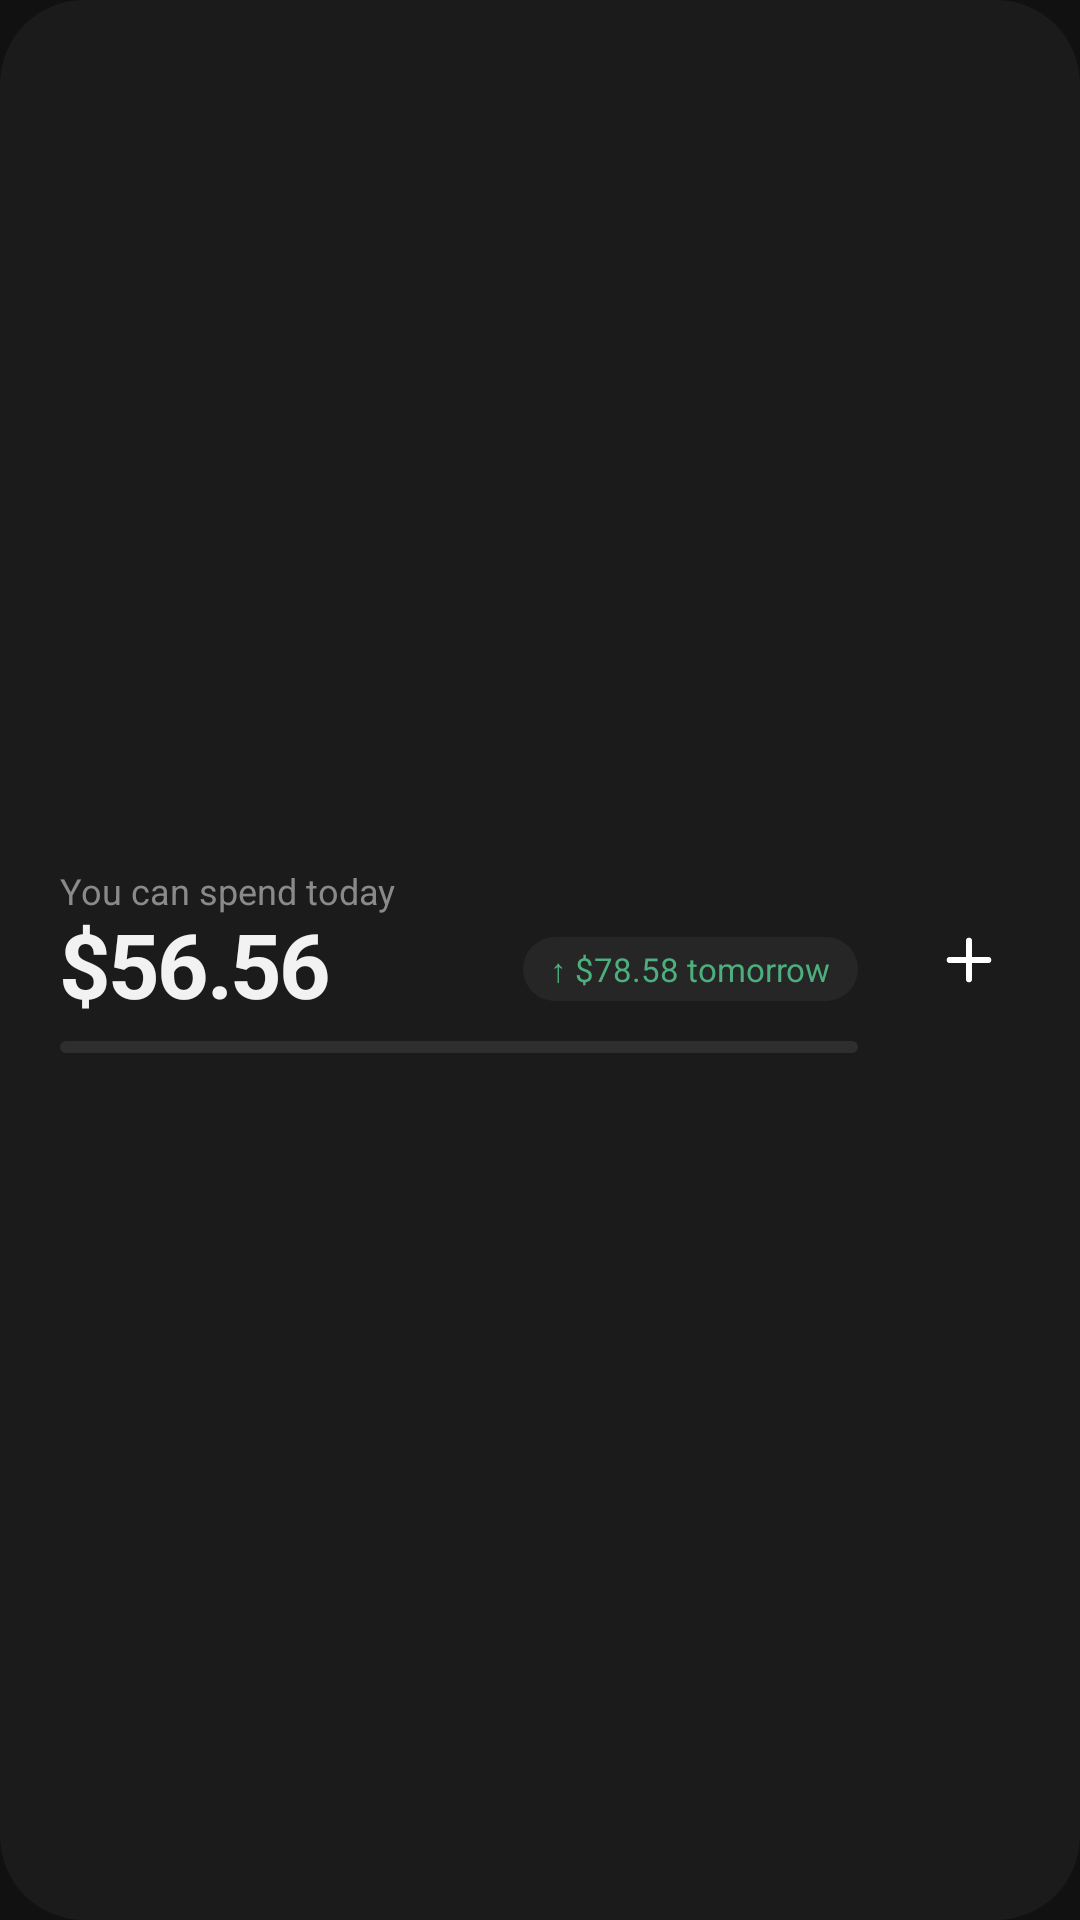

Named icons in this screenshot (1080 × 1920) and their bounding boxes, BBox(x1, y1, x2, y2):
widget add: BBox(946, 937, 992, 983)
